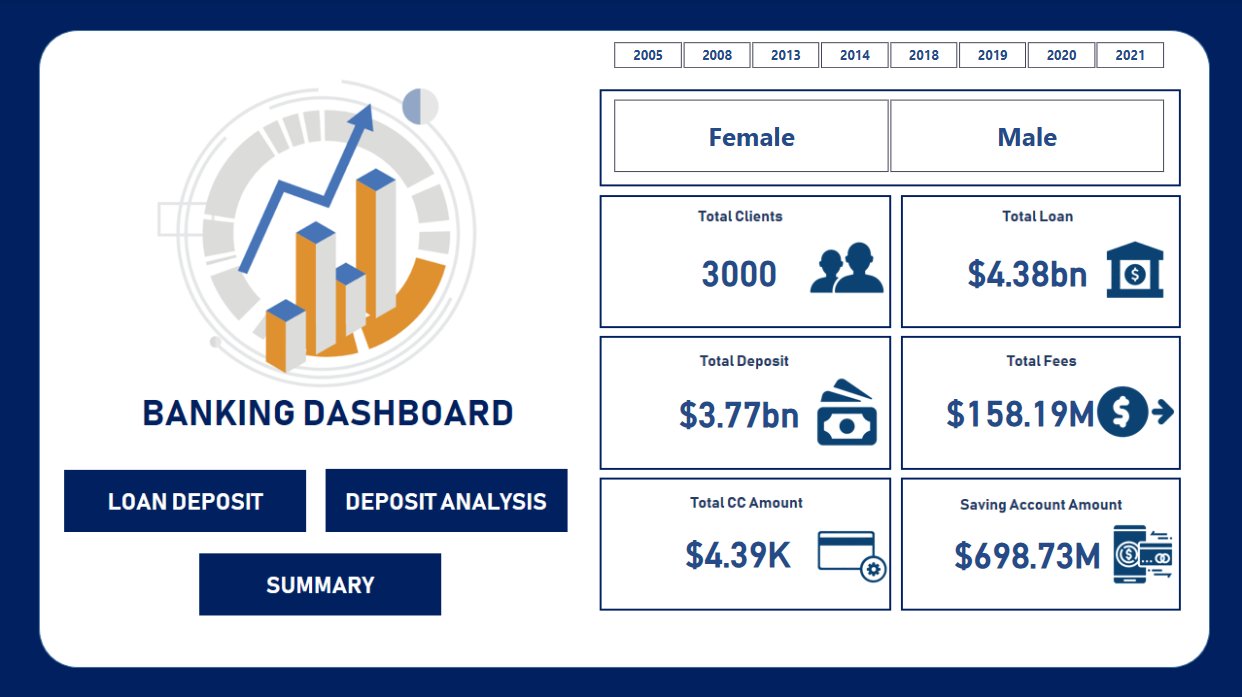

This screenshot's page, from the dashboard's own definition file:
{"tool":"powerbi","page":{"name":"Home","canvas":[1280,720],"ordinal":0},"visuals":[{"type":"card","fields":{"Values":["banking_analysis customer.Name"]},"box":[640.1,222.8,242.3,111.4],"z":0},{"type":"card","fields":{"Values":["banking_analysis customer.Total Fees"]},"box":[930.1,367.8,242.3,111.4],"z":1000},{"type":"card","fields":{"Values":["banking_analysis customer.Total CC Amount"]},"box":[638.4,512.8,242.3,111.4],"z":2000},{"type":"card","fields":{"Values":["banking_analysis customer.Saving Accounts"]},"box":[937.2,514.6,242.3,111.4],"z":3000},{"type":"card","fields":{"Values":["banking_analysis customer.Total Deposit"]},"box":[640.1,369.6,242.3,111.4],"z":4000},{"type":"card","fields":{"Values":["banking_analysis customer.Total Loan"]},"box":[937.2,222.8,242.3,111.4],"z":5000},{"type":"slicer","fields":{"Values":["banking_analysis customer.Gender"]},"box":[606.5,97.3,615.4,88.4],"z":6000},{"type":"actionButton","box":[61.9,482.7,251.1,63.7],"z":7000},{"type":"actionButton","box":[334.2,482.7,247.6,63.7],"z":8000},{"type":"actionButton","box":[206.9,569.4,251.1,63.7],"z":9000},{"type":"slicer","fields":{"Values":["banking_analysis customer.Joining Year"]},"box":[606.5,37.1,615.4,33.6],"z":10000}]}

Visuals, with their boxes in screenshot pixels (x1, y1, x2, y2), scaled from the page's 1280x720 canvas onto the 1242x697 screenshot:
card - banking_analysis customer.Name: bbox=(621, 216, 856, 324)
card - banking_analysis customer.Total Fees: bbox=(902, 356, 1138, 464)
card - banking_analysis customer.Total CC Amount: bbox=(619, 496, 855, 604)
card - banking_analysis customer.Saving Accounts: bbox=(909, 498, 1144, 606)
card - banking_analysis customer.Total Deposit: bbox=(621, 358, 856, 466)
card - banking_analysis customer.Total Loan: bbox=(909, 216, 1144, 324)
slicer - banking_analysis customer.Gender: bbox=(588, 94, 1186, 180)
actionButton: bbox=(60, 467, 304, 529)
actionButton: bbox=(324, 467, 565, 529)
actionButton: bbox=(201, 551, 444, 613)
slicer - banking_analysis customer.Joining Year: bbox=(588, 36, 1186, 68)
